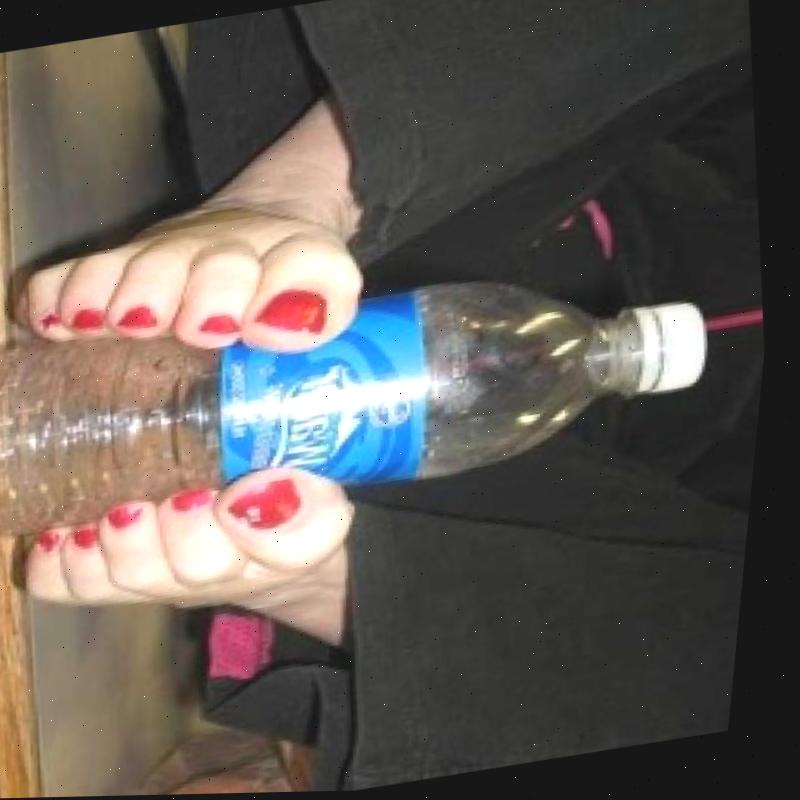botella: (0, 227, 740, 554)
